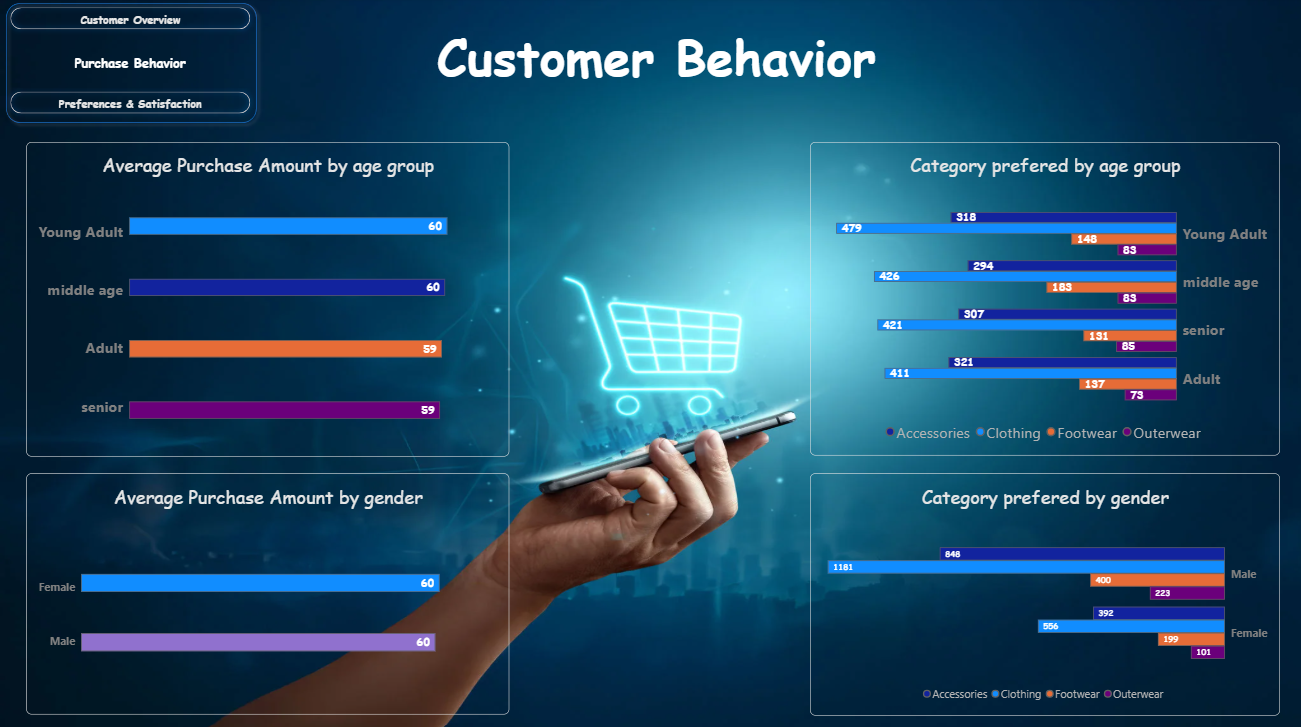

The page's visual inventory and layout, read from the dashboard file:
{"tool":"powerbi","page":{"name":"Purchase Behavior","canvas":[1920,1080],"ordinal":1},"visuals":[{"type":"clusteredBarChart","title":"Category prefered by gender","fields":{"Category":["customer_shopping_behavior.gender"],"Series":["customer_shopping_behavior.category"],"Y":["CountNonNull(customer_shopping_behavior.category)"]},"box":[1192.6,701.2,692,357.1],"z":0},{"type":"clusteredBarChart","title":"Average Purchase Amount by gender","fields":{"Category":["customer_shopping_behavior.gender"],"Series":["customer_shopping_behavior.gender"],"Y":["customer_shopping_behavior.Average Purchase Amount"]},"box":[38.9,701.9,711.1,355.6],"z":2000},{"type":"clusteredBarChart","title":"Average Purchase Amount by age group","fields":{"Category":["customer_shopping_behavior.age_group"],"Series":["customer_shopping_behavior.age_group"],"Y":["customer_shopping_behavior.Average Purchase Amount"]},"box":[38.9,213,711.1,463],"z":4000},{"type":"clusteredBarChart","title":"Category prefered by age group","fields":{"Category":["customer_shopping_behavior.age_group"],"Series":["customer_shopping_behavior.category"],"Y":["CountNonNull(customer_shopping_behavior.category)"]},"box":[1192.6,213.5,692,462],"z":5000},{"type":"textbox","box":[394.4,0,1525.9,177.8],"z":8000},{"type":"shape","box":[0,0,387,194.4],"z":8002},{"type":"pageNavigator","box":[7.4,7.4,369.5,173.5],"z":8003}]}

Visuals, with their boxes in screenshot pixels (x1, y1, x2, y2), scaled from the page's 1920x1080 canvas onto the 1301x727 screenshot:
"Category prefered by gender" clusteredBarChart: {"left": 808, "top": 472, "right": 1277, "bottom": 712}
"Average Purchase Amount by gender" clusteredBarChart: {"left": 26, "top": 472, "right": 508, "bottom": 712}
"Average Purchase Amount by age group" clusteredBarChart: {"left": 26, "top": 143, "right": 508, "bottom": 455}
"Category prefered by age group" clusteredBarChart: {"left": 808, "top": 144, "right": 1277, "bottom": 455}
textbox: {"left": 267, "top": 0, "right": 1300, "bottom": 120}
shape: {"left": 0, "top": 0, "right": 262, "bottom": 131}
pageNavigator: {"left": 5, "top": 5, "right": 255, "bottom": 122}
